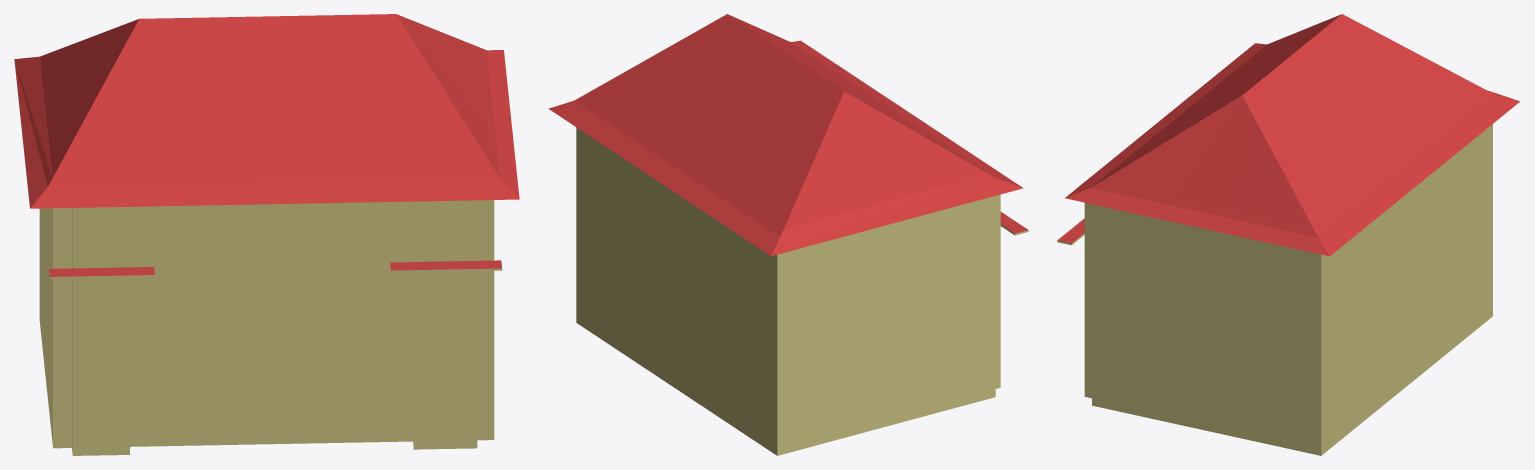
The picture shows the model from 3 angles, left to right: view 1: azimuth 30°, elevation 25°; view 2: azimuth 150°, elevation 25°; view 3: azimuth 270°, elevation 25°; orthographic projection. The views are drawn at different scales.
Parts seen in each view (by area): view 1: group_5, group_3, group_4, group_10, group_7; view 2: group_5, group_3, group_4; view 3: group_5, group_3, group_4.
Boxes of the visible parts, x1,y1,x2,y2 form: group_5: (39, 62, 494, 455); group_3: (30, 14, 518, 208); group_4: (14, 48, 519, 208); group_10: (390, 260, 501, 270); group_7: (49, 267, 154, 276); group_5: (576, 127, 1000, 455); group_3: (548, 14, 1022, 255); group_4: (574, 41, 1022, 256); group_5: (1084, 124, 1492, 455); group_3: (1065, 14, 1519, 255); group_4: (1065, 43, 1517, 256).
Size of the model in its own units: 24.82 by 22.77 by 16.62.
